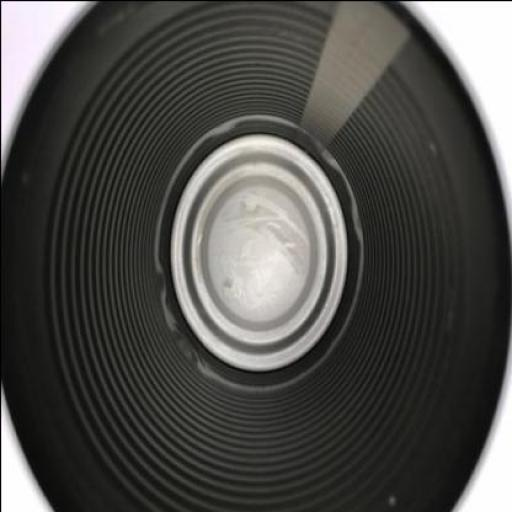metal: (1, 4, 511, 510)
